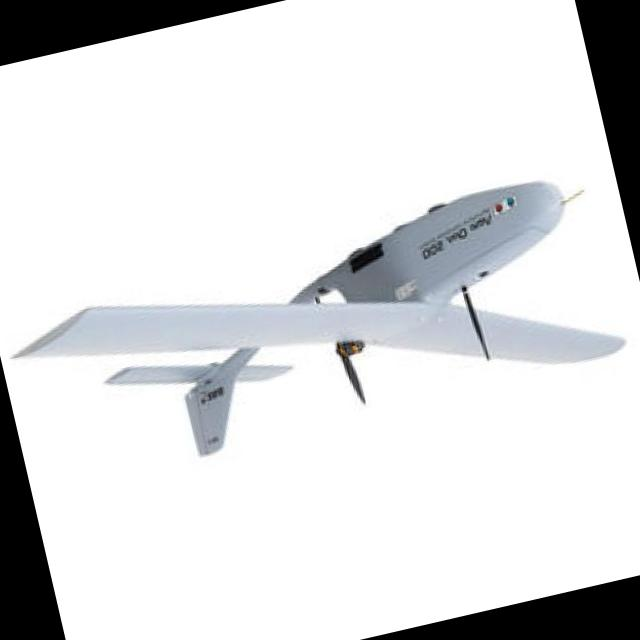UAV: (81, 152, 634, 505)
